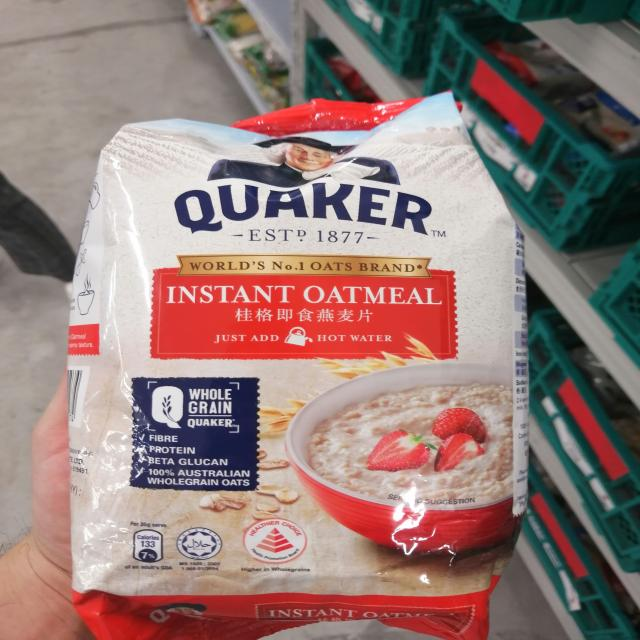object_name: (101, 123, 491, 639)
